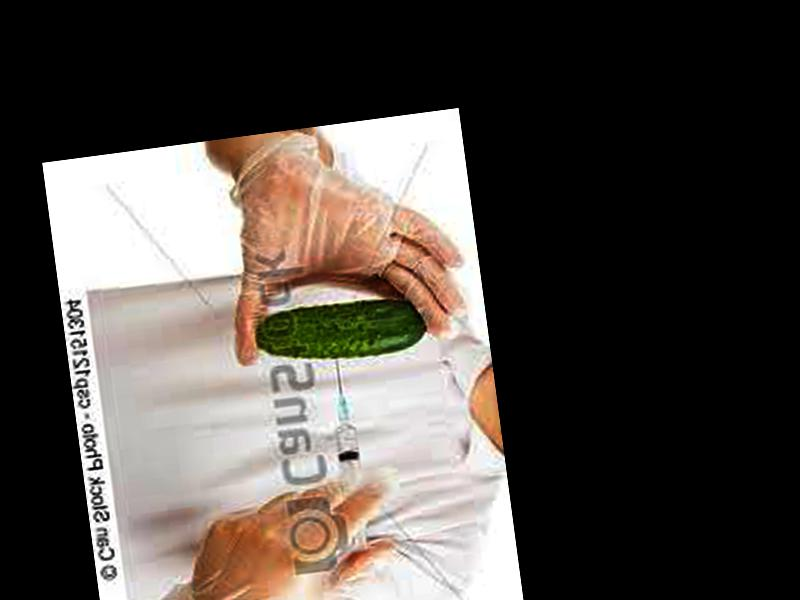Cucumber: (254, 289, 432, 367)
